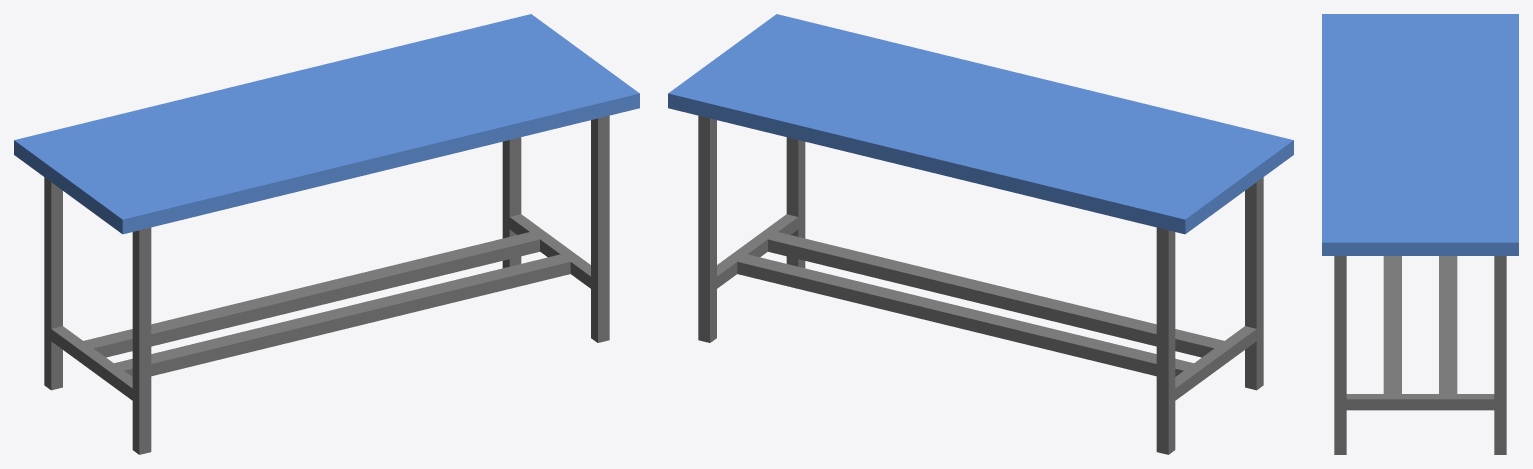
3 views of the same model, side by side, from view 1: azimuth 30°, elevation 25°; view 2: azimuth 150°, elevation 25°; view 3: azimuth 270°, elevation 25° (orthographic). The views are drawn at different scales.
Parts seen in each view (by area): view 1: M-30; view 2: M-30; view 3: M-30.
Part boxes in pixels (x1=…): M-30: x1=14, y1=14, x2=639, y2=454; M-30: x1=668, y1=14, x2=1293, y2=454; M-30: x1=1322, y1=14, x2=1518, y2=454.
Bounding box in the file's own units: 110 × 50 × 40.
